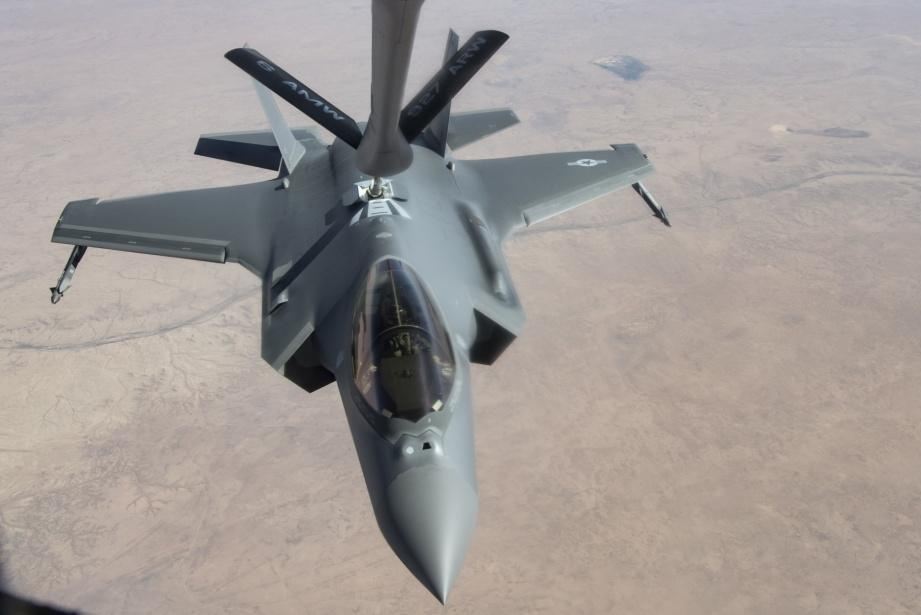F-35 Lightning: (38, 69, 678, 614)
